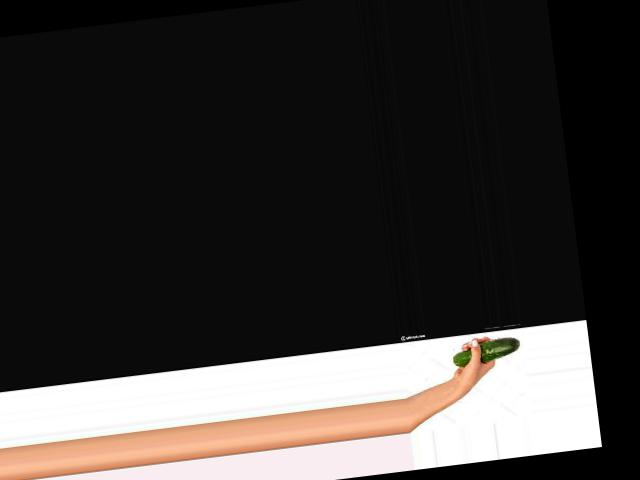cucumber: (452, 335, 522, 367)
